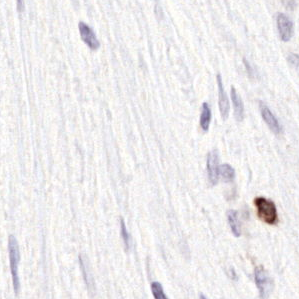Lymphocyte: (252, 195, 279, 226)
